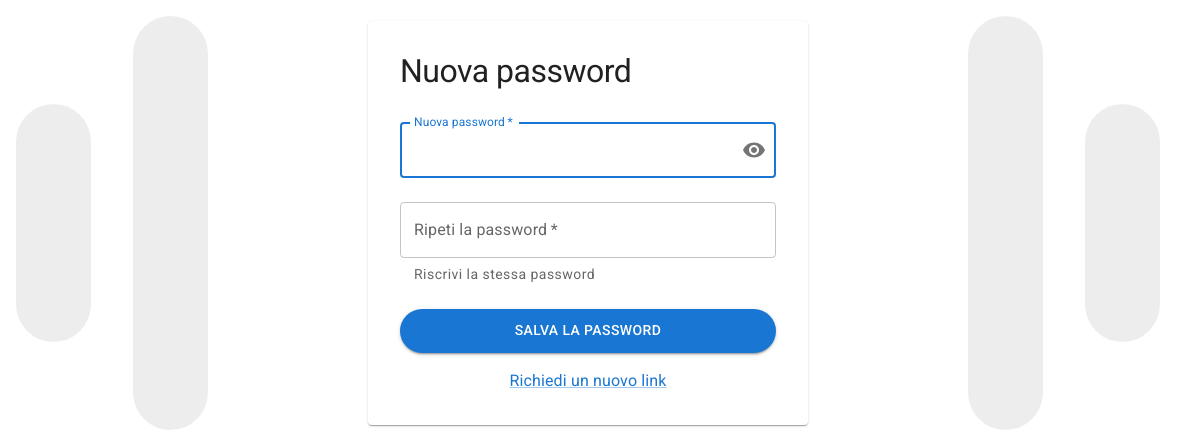
Test: ResetPassword: conferma con riga riservata › l'invio con conferma diversa: riga rossa, focus sul campo, niente avviso in alto, niente chiamata
This screenshot has width=1177, height=447.
Type "Nuova!Pass2026" into the password field labelled "Nuova password *".
click(563, 150); type("Nuova!Pass2026")  # box left=400, top=122, right=726, bottom=178
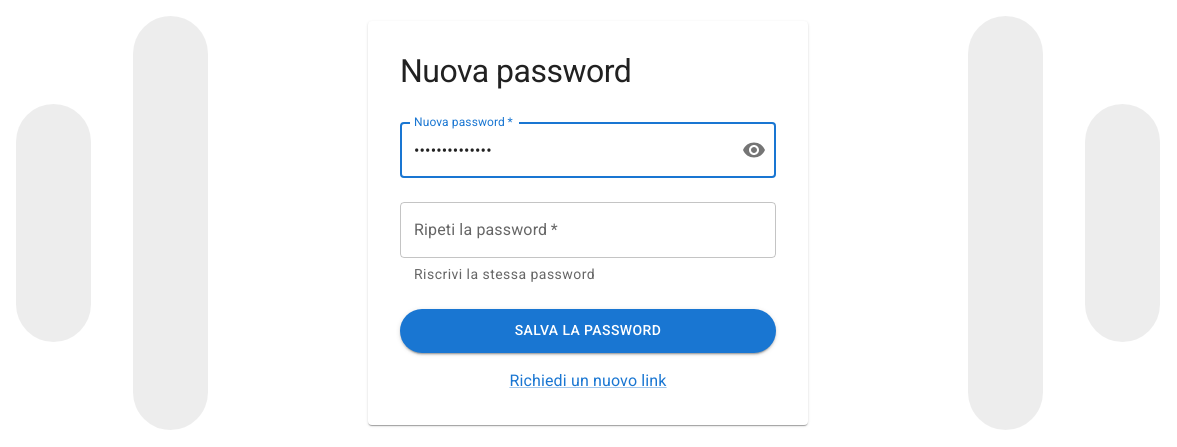
Type "Nuova!Pass" into the password field labelled "Ripeti la password *".
click(588, 230); type("Nuova!Pass")  # box left=400, top=202, right=776, bottom=258
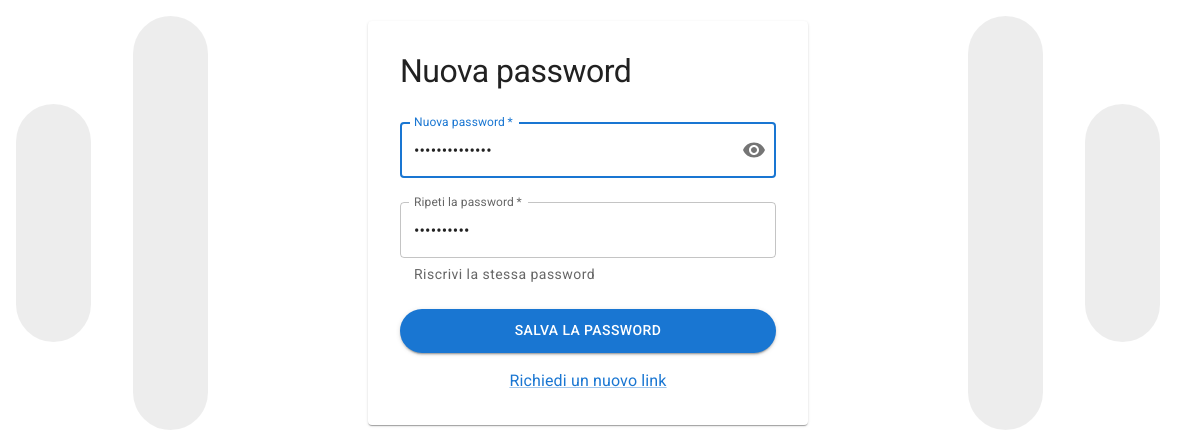
Click the button "Salva la password".
click(588, 330)  # box left=400, top=308, right=776, bottom=352
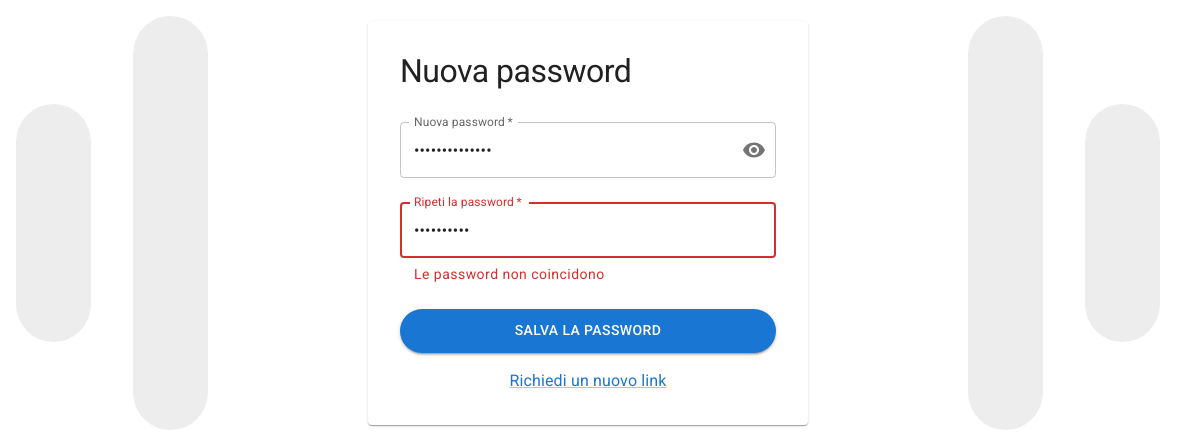
Expected: the text "Le password non coincidono" is shown, left=414, top=266, right=605, bottom=282
